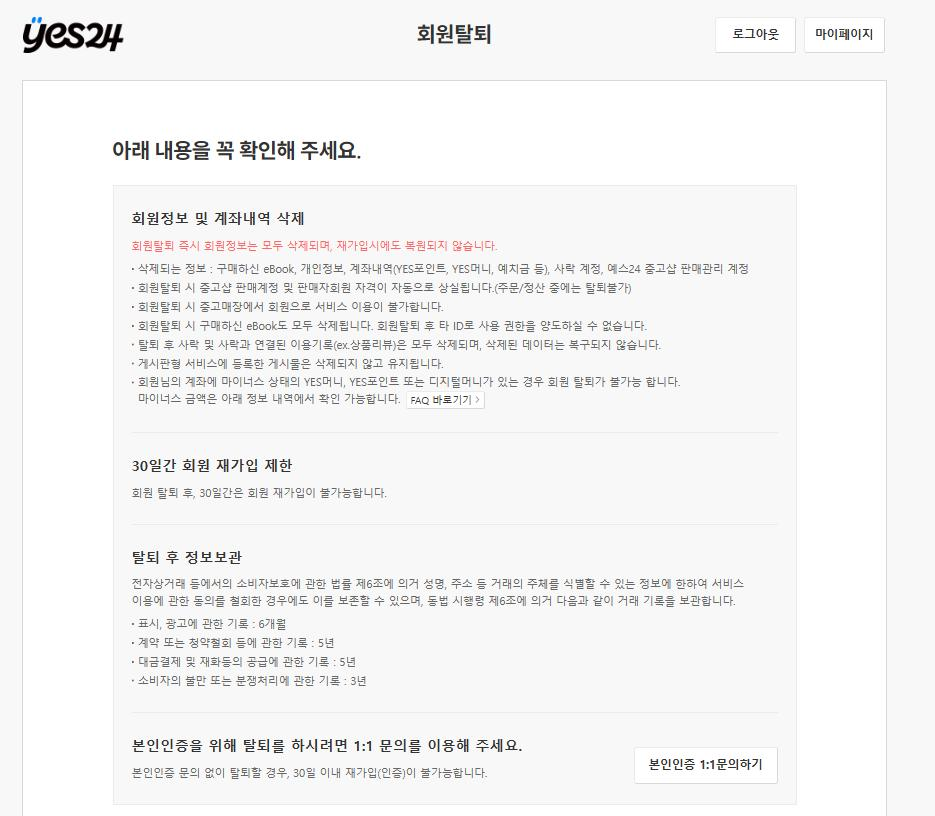button: (642, 750, 778, 783), (717, 18, 800, 50), (807, 22, 878, 49), (406, 394, 484, 408)
